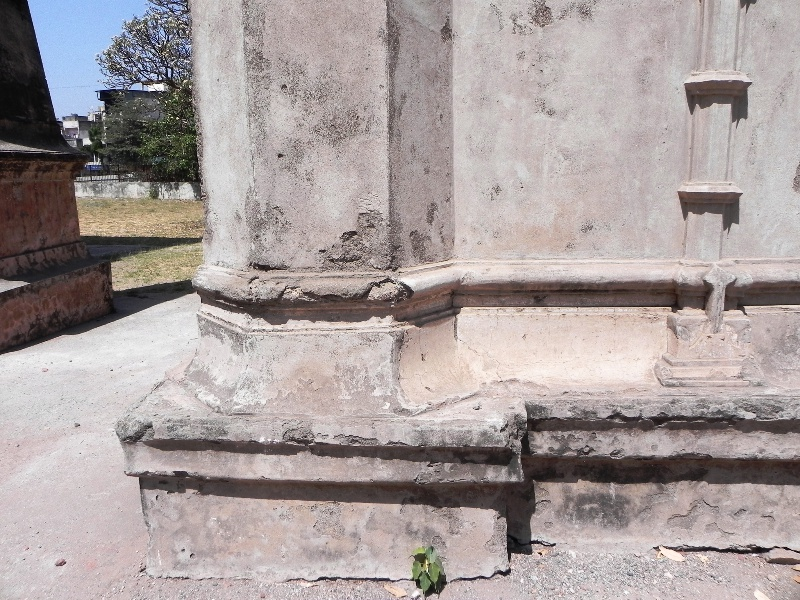Spalling: (310, 208, 404, 268), (241, 279, 411, 307)
